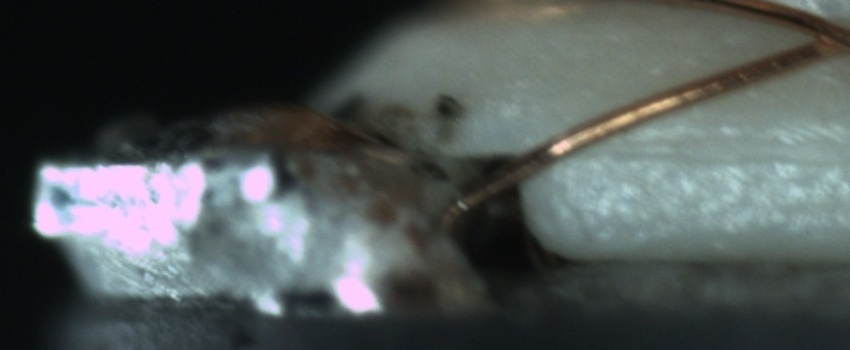CL: (794, 10, 850, 65)
DL: (580, 116, 841, 185)
